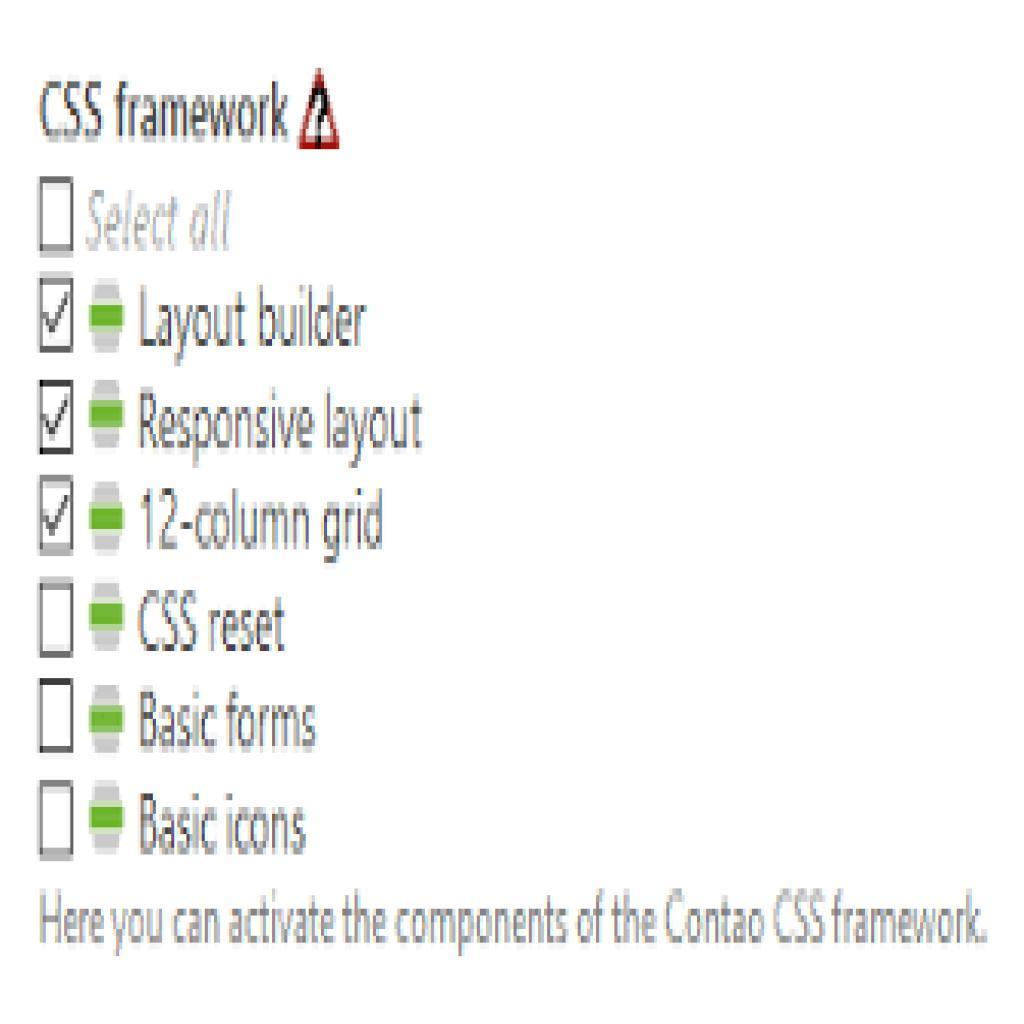checkbox: (41, 383, 75, 455), (41, 785, 75, 854), (41, 583, 73, 656), (42, 176, 72, 253), (41, 279, 73, 351), (42, 277, 74, 348), (43, 480, 74, 552), (39, 682, 71, 749), (41, 783, 71, 853)
icon: (300, 67, 343, 152)
label: (40, 886, 997, 951), (136, 385, 433, 463), (34, 76, 297, 145), (141, 489, 392, 561), (137, 284, 373, 357), (133, 790, 312, 862), (137, 686, 323, 755), (139, 587, 294, 657), (88, 192, 241, 255)
